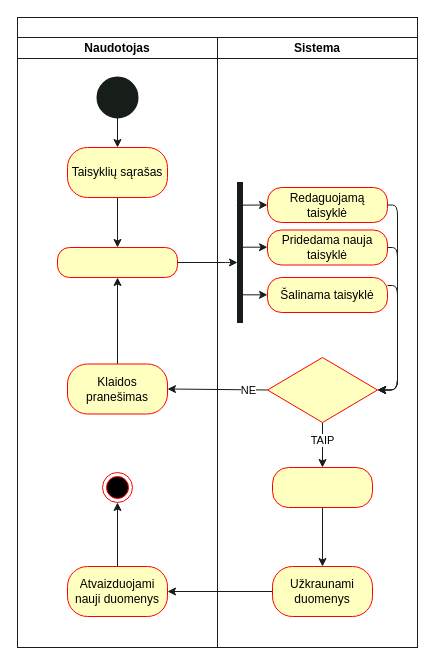
Some shapes in this 435 by 665 pixel diagram are drawn without their labels. Each missing label, with the box of its shape:
A.5: (16, 16, 418, 38)
Ar duomenys teisingi?: (266, 356, 378, 422)
Išsaugomi duomenys: (272, 466, 372, 508)
Taisyklių redagavimas: (56, 246, 178, 278)
